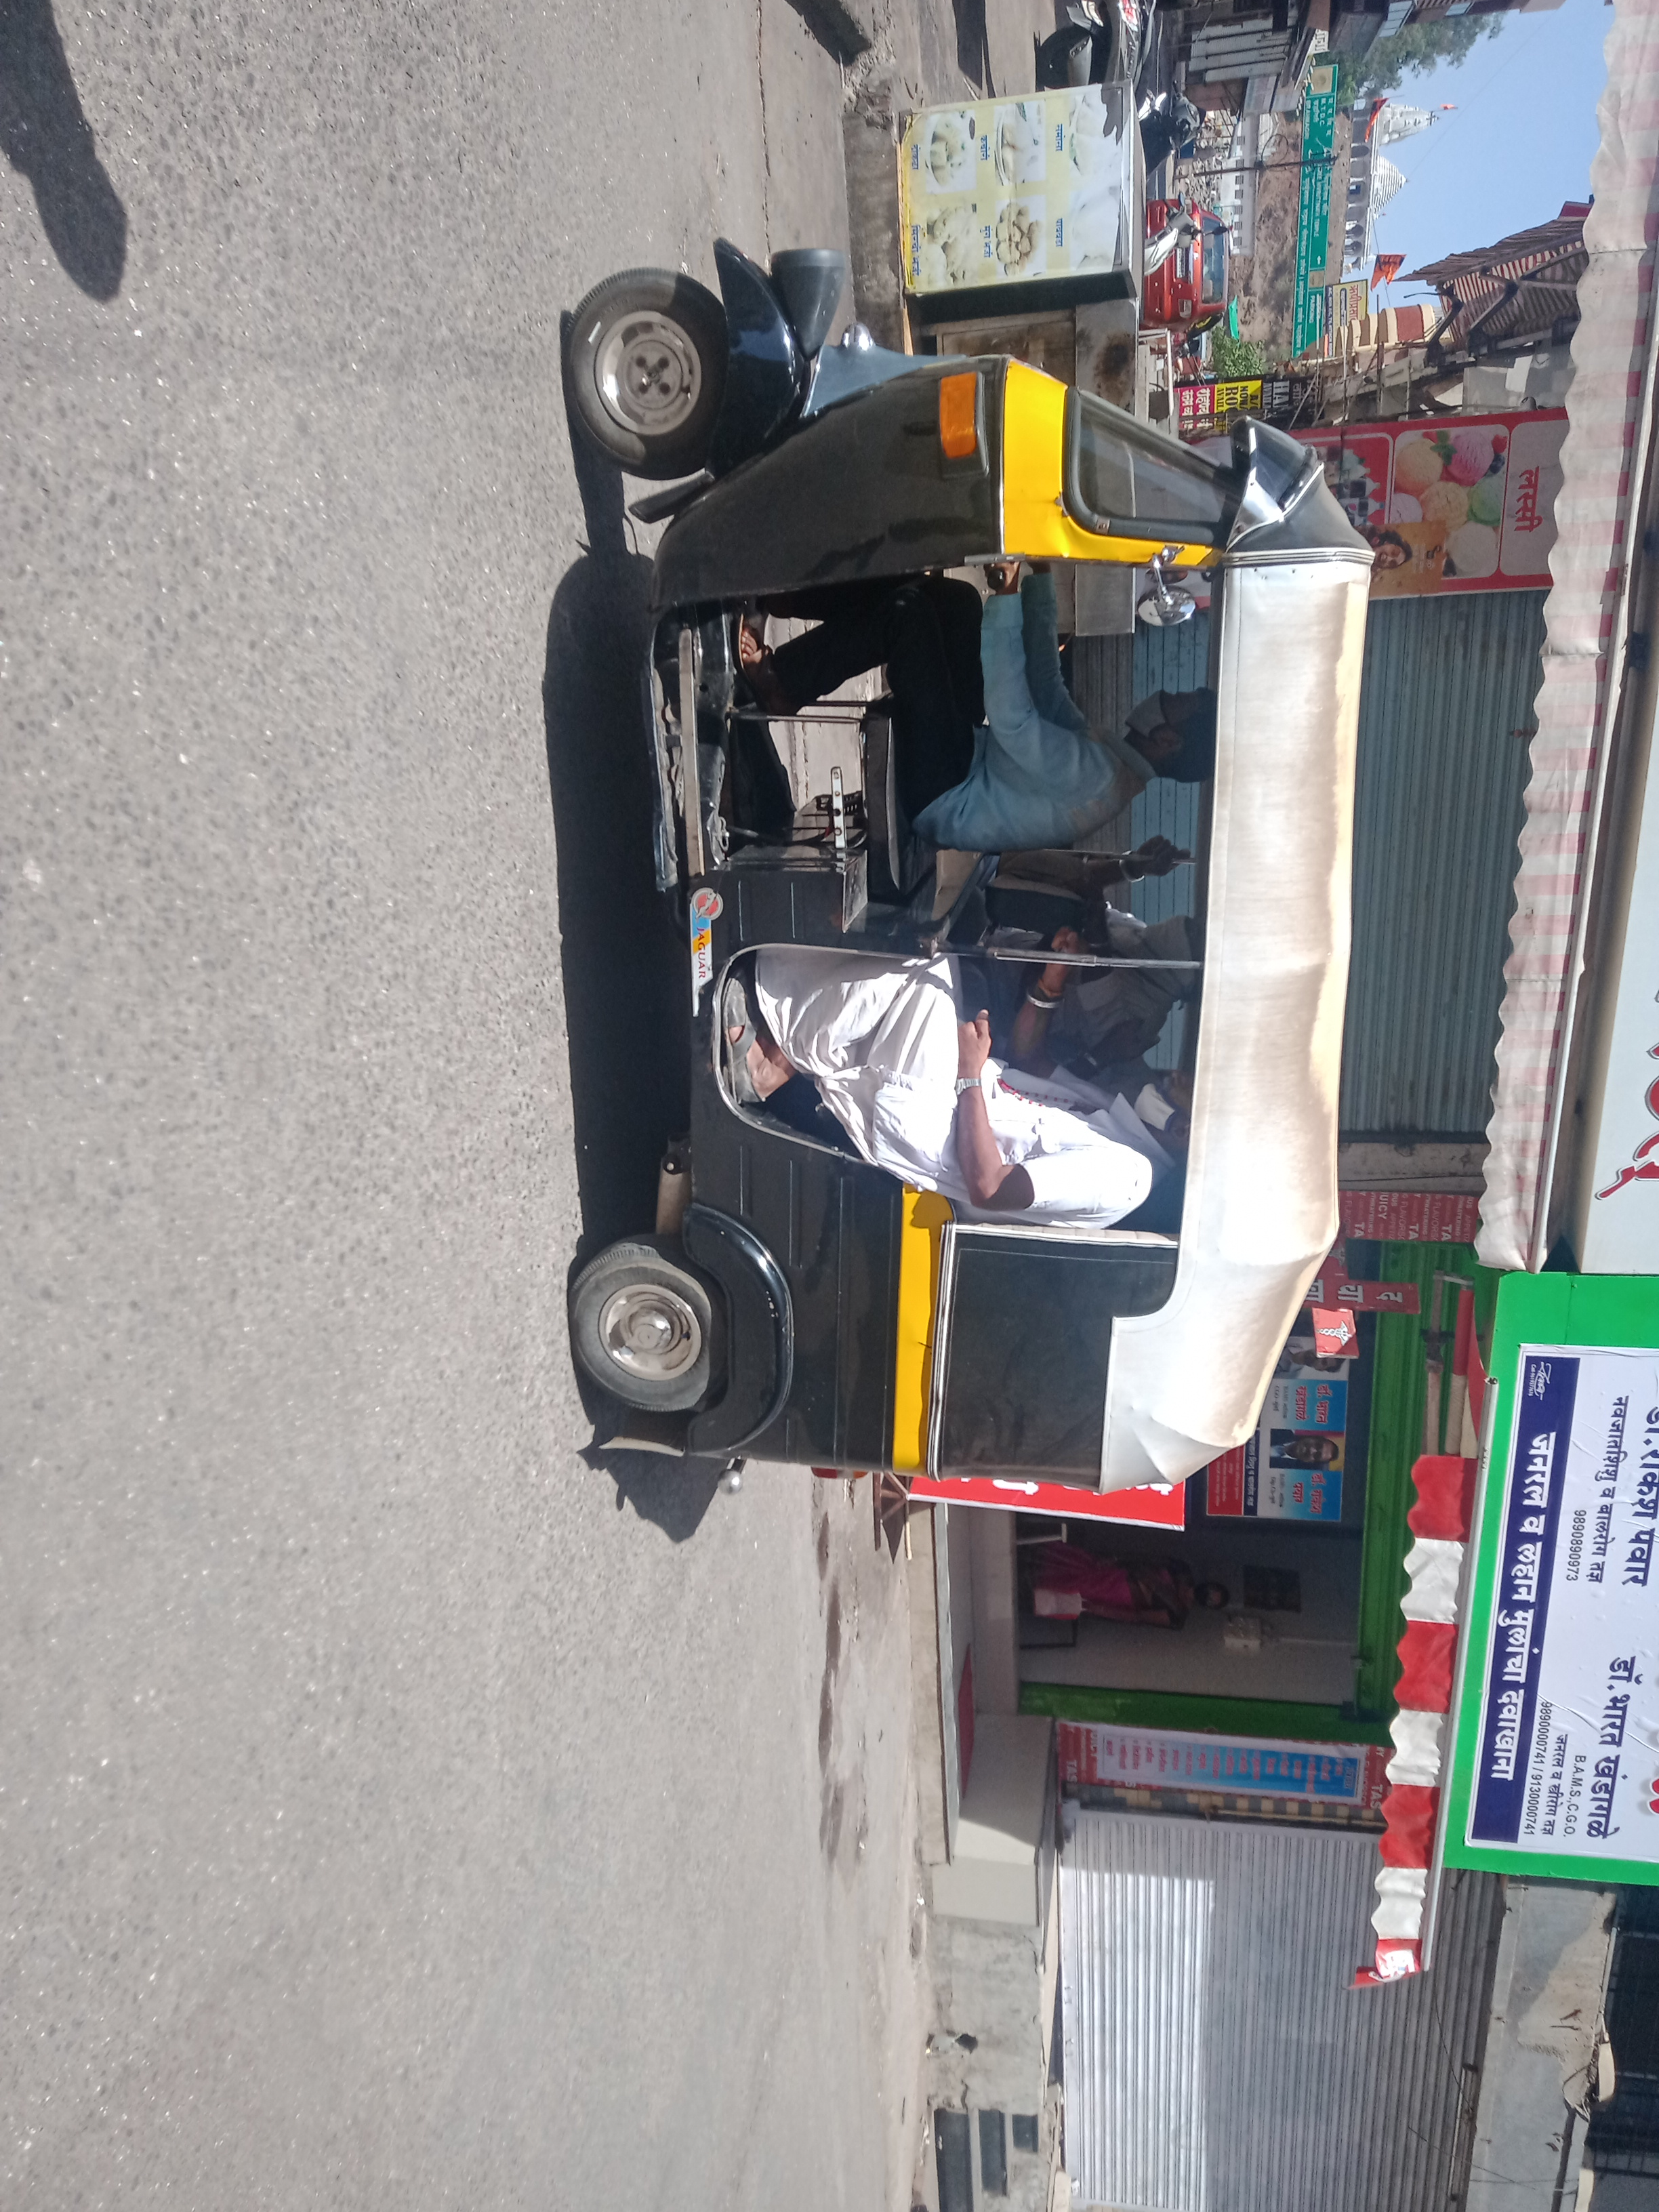auto: (558, 240, 1371, 1501)
